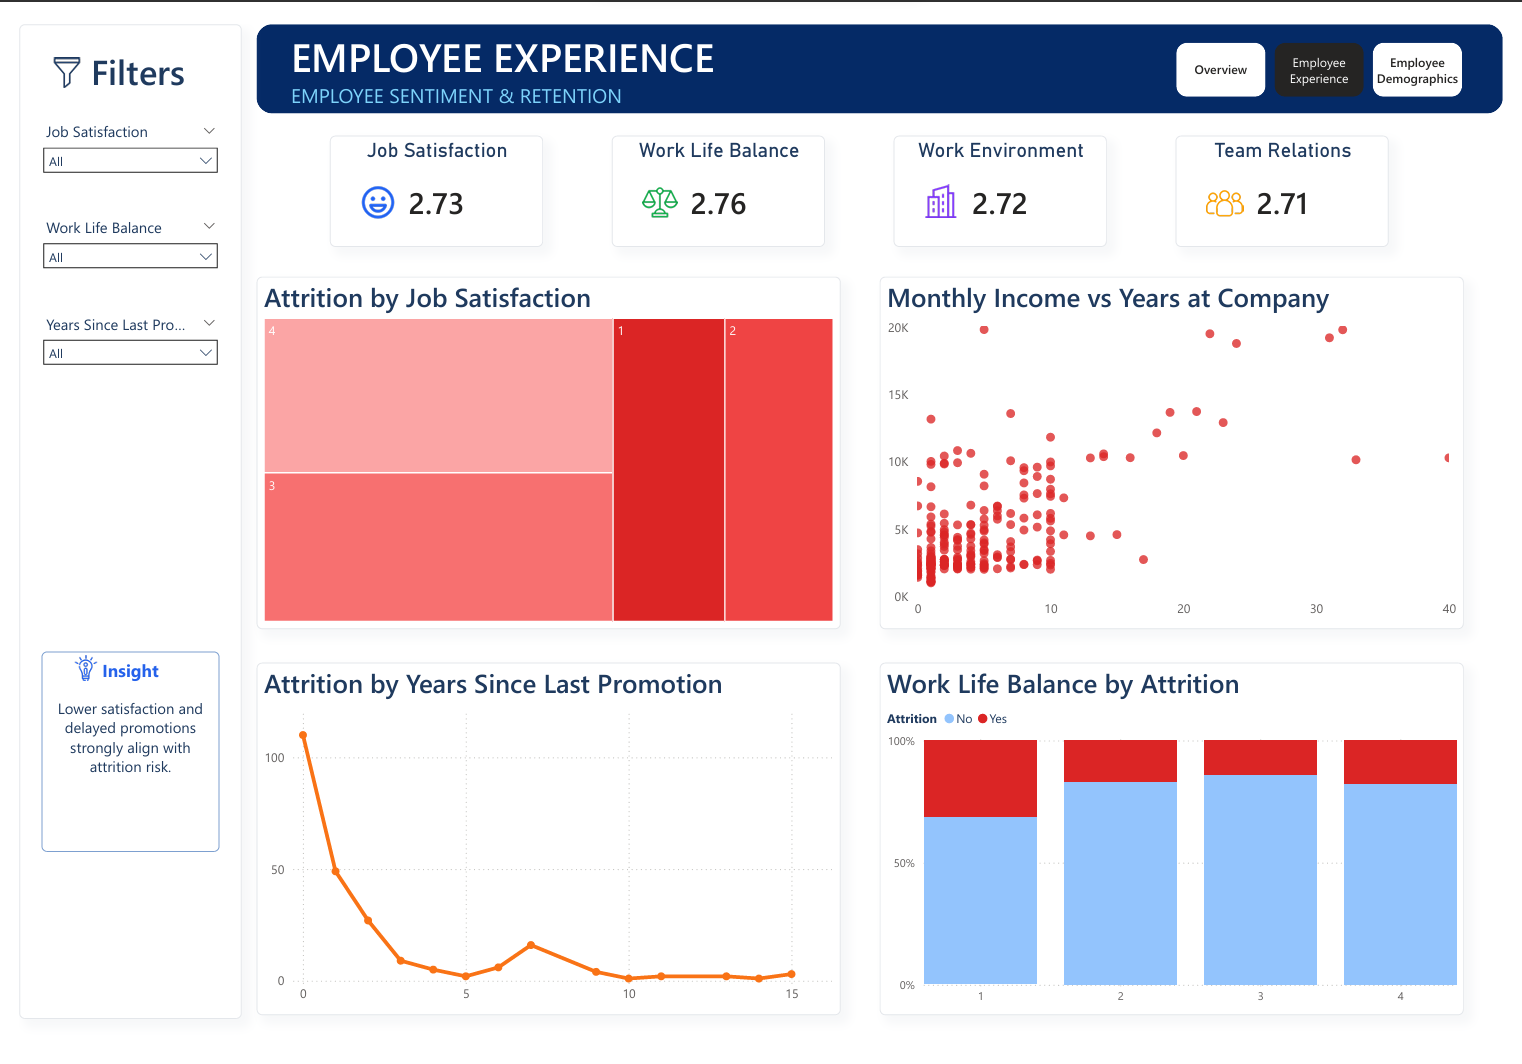

Layout of this report page (visuals, bound fields, positions):
{"tool":"powerbi","page":{"name":"Employee Experience","canvas":[1600,1100],"ordinal":1},"visuals":[{"type":"shape","box":[256,0,1344,96],"z":0},{"type":"textbox","box":[288,0,480,96],"z":1000},{"type":"pageNavigator","box":[1248,20,308,58],"z":2000},{"type":"shape","box":[0,0,240,1072],"z":3000},{"type":"slicer","fields":{"Values":["public employee_attrition.job_satisfaction"]},"box":[16.2,99.8,208,95],"z":4000},{"type":"slicer","fields":{"Values":["public employee_attrition.work_life_balance"]},"box":[16.2,203.1,208,96],"z":5000},{"type":"slicer","fields":{"Values":["public employee_attrition.years_since_last_promotion"]},"box":[16.2,307.3,208,96],"z":6000},{"type":"textbox","box":[64,20,128,64],"z":7000},{"type":"image","box":[35,36,33,33],"z":8000},{"type":"textbox","box":[24,676,192,216],"z":9000},{"type":"image","box":[58,680,28,28],"z":10000},{"type":"cardVisual","title":" Job Satisfaction","fields":{"Data":["Avg(public employee_attrition.job_satisfaction)"]},"box":[335,120,230,120],"z":11000},{"type":"cardVisual","title":"Work Life Balance","fields":{"Data":["Avg(public employee_attrition.work_life_balance)"]},"box":[639,120,230,120],"z":12000},{"type":"cardVisual","title":"Work Environment","fields":{"Data":["Avg(public employee_attrition.environment_satisfaction)"]},"box":[943,120,230,120],"z":13000},{"type":"cardVisual","title":"Team Relations","fields":{"Data":["Avg(public employee_attrition.relationship_satisfaction)"]},"box":[1247,120,230,120],"z":14000},{"type":"scatterChart","title":"Monthly Income vs Years at Company","fields":{"X":["public employee_attrition.years_at_company"],"Y":["public employee_attrition.monthly_income"],"Series":["public employee_attrition.attrition"],"Size":["CountNonNull(public employee_attrition.employee_number)"]},"box":[928,272,630,380],"z":15000},{"type":"hundredPercentStackedColumnChart","title":"Work Life Balance by Attrition","fields":{"Y":["CountNonNull(public employee_attrition.employee_number)"],"Series":["public employee_attrition.attrition"],"Category":["public employee_attrition.work_life_balance"]},"box":[928,688,630,380],"z":16000},{"type":"treemap","title":"Attrition by Job Satisfaction","fields":{"Group":["public employee_attrition.job_satisfaction"],"Values":["CountNonNull(public employee_attrition.employee_number)"]},"box":[256,272,630,380],"z":17000},{"type":"lineChart","title":"Attrition by Years Since Last Promotion","fields":{"Category":["public employee_attrition.years_since_last_promotion"],"Y":["CountNonNull(public employee_attrition.employee_number)"]},"box":[256,688,630,380],"z":18000},{"type":"image","box":[368,173,38,38],"z":19000},{"type":"image","box":[672,173,38,38],"z":20000},{"type":"image","box":[976,173,36,36],"z":21000},{"type":"image","box":[1280,173,40,40],"z":22000}]}

Visuals, with their boxes in screenshot pixels (x1, y1, x2, y2), scaled from the page's 1600x1100 canvas onto the 1522x1064 screenshot:
shape: (244,0,1521,93)
textbox: (274,0,731,93)
pageNavigator: (1187,19,1480,75)
shape: (0,0,228,1037)
slicer - public employee_attrition.job_satisfaction: (15,97,213,188)
slicer - public employee_attrition.work_life_balance: (15,196,213,289)
slicer - public employee_attrition.years_since_last_promotion: (15,297,213,390)
textbox: (61,19,183,81)
image: (33,35,65,67)
textbox: (23,654,205,863)
image: (55,658,82,685)
" Job Satisfaction" cardVisual: (319,116,537,232)
"Work Life Balance" cardVisual: (608,116,827,232)
"Work Environment" cardVisual: (897,116,1116,232)
"Team Relations" cardVisual: (1186,116,1405,232)
"Monthly Income vs Years at Company" scatterChart: (883,263,1482,631)
"Work Life Balance by Attrition" hundredPercentStackedColumnChart: (883,665,1482,1033)
"Attrition by Job Satisfaction" treemap: (244,263,843,631)
"Attrition by Years Since Last Promotion" lineChart: (244,665,843,1033)
image: (350,167,386,204)
image: (639,167,675,204)
image: (928,167,963,202)
image: (1218,167,1256,206)
